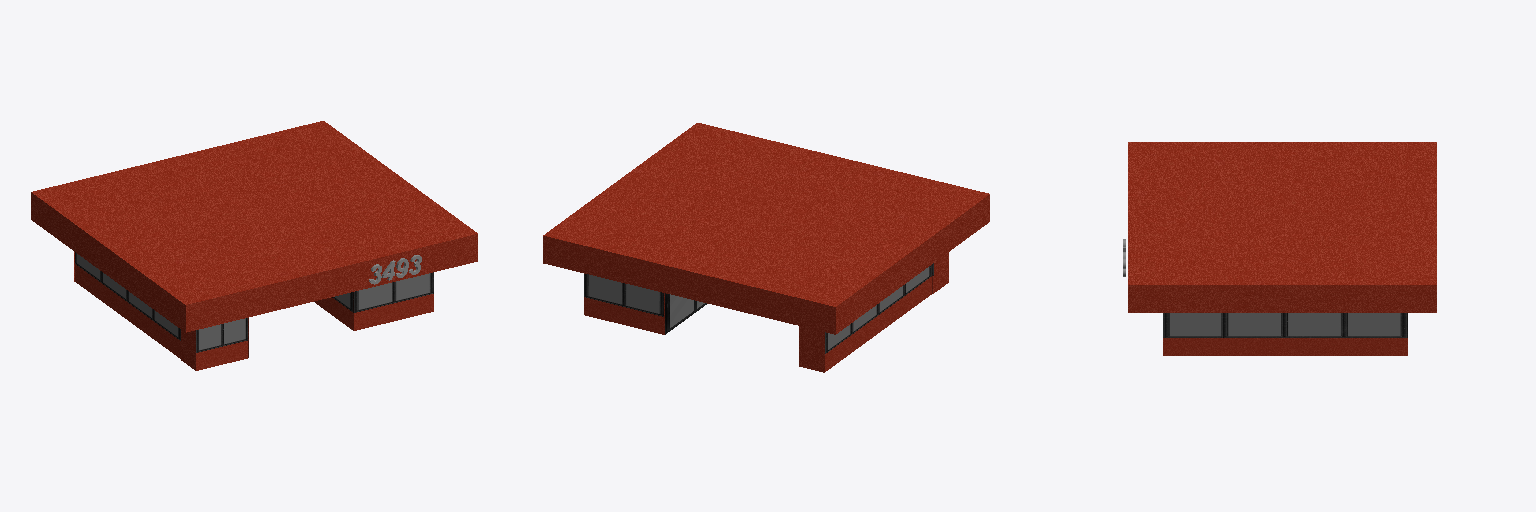
3 renders of one model, left to right at view 1: azimuth 30°, elevation 25°; view 2: azimuth 150°, elevation 25°; view 3: azimuth 270°, elevation 25°, orthographic.
Visible parts, largest first — view 1: Box004, Box003, Plane004, Box002, Plane007, TextPlus001; view 2: Box004, Plane006, Box003, Plane008, Plane007; view 3: Box004, Plane005.
Part boxes in pixels (x1,y1,x2,y2): Box004: (31,121,477,332); Box003: (75,252,180,358); Plane004: (354,272,433,330); Box002: (196,318,247,370); Plane007: (314,292,353,330); TextPlus001: (369,255,421,284); Box004: (543,123,989,334); Plane006: (584,274,663,334); Box003: (825,265,931,371); Plane008: (799,326,824,372); Plane007: (665,293,706,334); Box004: (1128,142,1436,312); Plane005: (1163,313,1407,355).
Size of the model in its own units: 110 by 30.41 by 103.
5 materials, 4 textured.